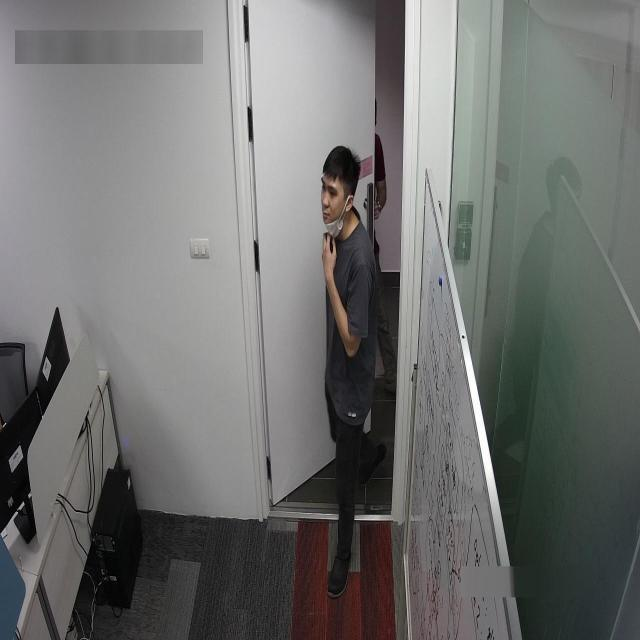hairnet: (320, 177, 344, 236)
